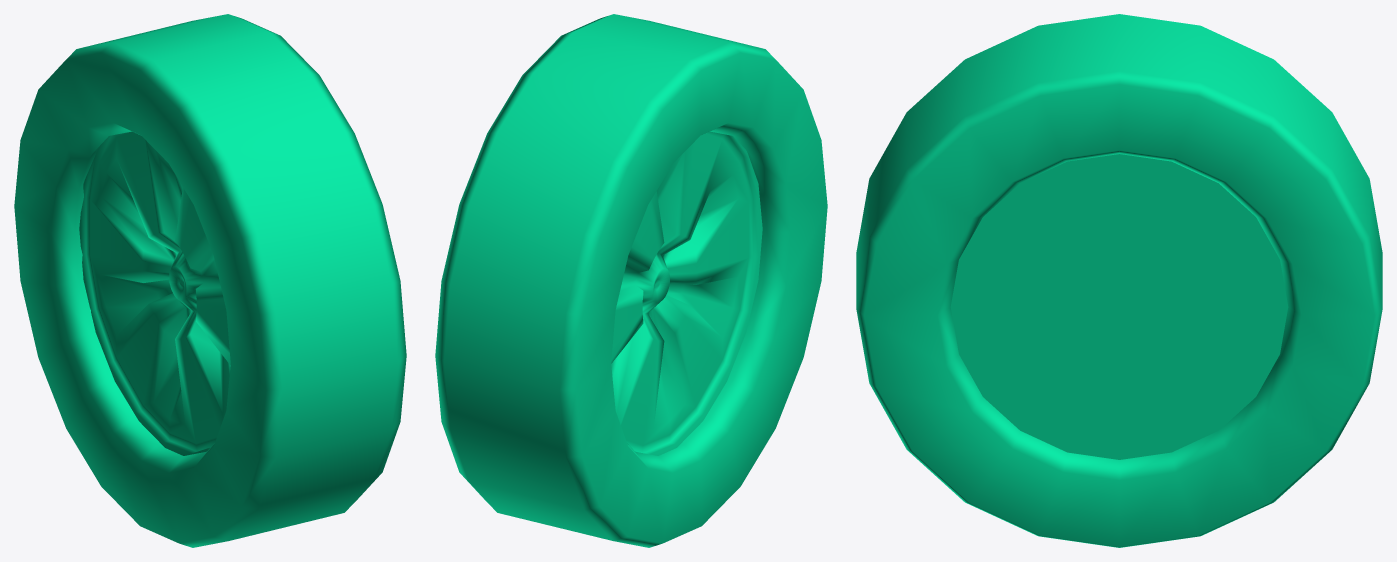
File: PickUp_Wheel_01.fbx
The picture shows the model from 3 angles, left to right: view 1: azimuth 30°, elevation 25°; view 2: azimuth 150°, elevation 25°; view 3: azimuth 270°, elevation 25°; orthographic projection.
Parts seen in each view (by area): view 1: PickUp_Wheel_01; view 2: PickUp_Wheel_01; view 3: PickUp_Wheel_01.
Part boxes in pixels (left/top/right/bottom): PickUp_Wheel_01: left=14, top=14, right=406, bottom=547; PickUp_Wheel_01: left=435, top=14, right=827, bottom=547; PickUp_Wheel_01: left=856, top=14, right=1382, bottom=547.
Bounding box in the file's own units: 26.23 × 83.71 × 83.72.
